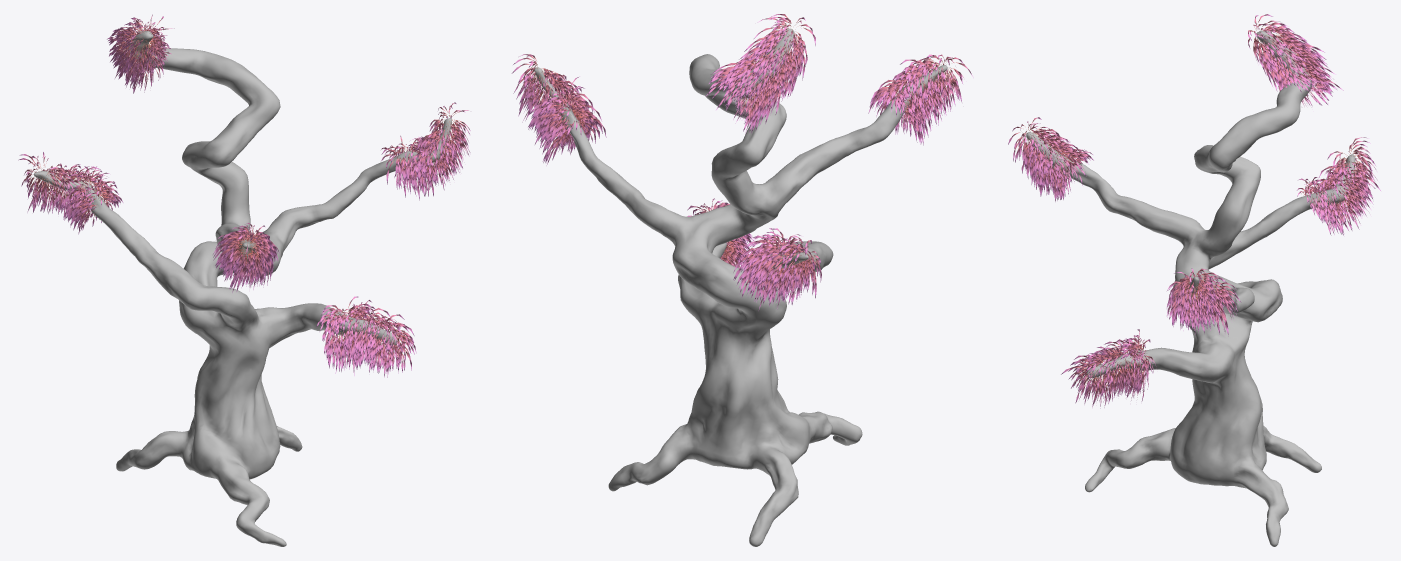
The model's file is TheBigTreeWithLeaves.fbx.
The picture shows the model from 3 angles, left to right: view 1: azimuth 30°, elevation 25°; view 2: azimuth 150°, elevation 25°; view 3: azimuth 270°, elevation 25°; orthographic projection. The views are drawn at different scales.
Visible parts, largest first — view 1: MainTree_lp, BranchLeaves01, BranchLeaves04, BranchLeaves02, BranchLeaves03, BranchLeaves05; view 2: MainTree_lp, BranchLeaves05, BranchLeaves04, BranchLeaves02, BranchLeaves03, BranchLeaves01; view 3: MainTree_lp, BranchLeaves05, BranchLeaves02, BranchLeaves01, BranchLeaves03, BranchLeaves04.
Boxes of the visible parts, bbox=[...] form: MainTree_lp: bbox=[33, 31, 451, 546]; BranchLeaves01: bbox=[316, 296, 416, 377]; BranchLeaves04: bbox=[381, 102, 470, 200]; BranchLeaves02: bbox=[18, 152, 123, 234]; BranchLeaves03: bbox=[213, 223, 279, 292]; BranchLeaves05: bbox=[107, 14, 174, 93]; MainTree_lp: bbox=[534, 28, 947, 546]; BranchLeaves05: bbox=[705, 14, 815, 133]; BranchLeaves04: bbox=[511, 54, 606, 165]; BranchLeaves02: bbox=[733, 228, 821, 310]; BranchLeaves03: bbox=[868, 54, 973, 145]; BranchLeaves01: bbox=[687, 198, 754, 268]; MainTree_lp: bbox=[1026, 30, 1355, 546]; BranchLeaves05: bbox=[1248, 14, 1343, 106]; BranchLeaves02: bbox=[1297, 137, 1380, 235]; BranchLeaves01: bbox=[1061, 329, 1156, 408]; BranchLeaves03: bbox=[1008, 117, 1093, 201]; BranchLeaves04: bbox=[1166, 268, 1241, 334].
Bounding box in the file's own units: 8.9 × 10.93 × 8.31.
